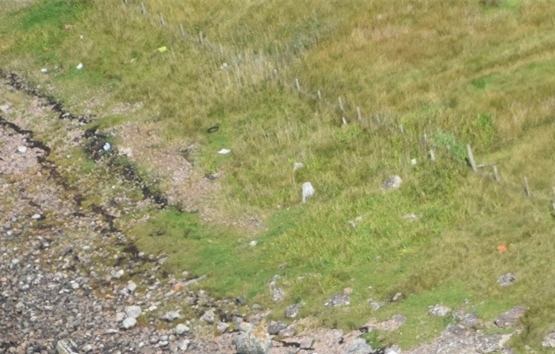scattered_barrel: (10, 27, 236, 161)
white_in_green: (473, 221, 534, 270)
